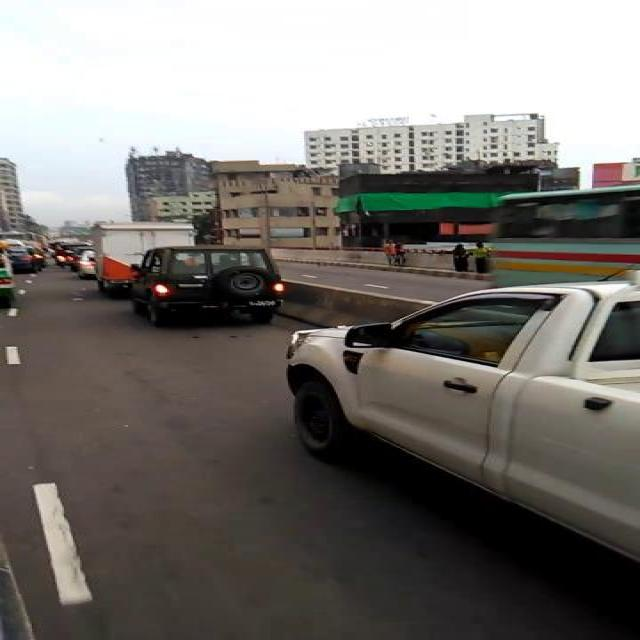11: (276, 271, 638, 567)
Bus: (127, 243, 289, 329)
